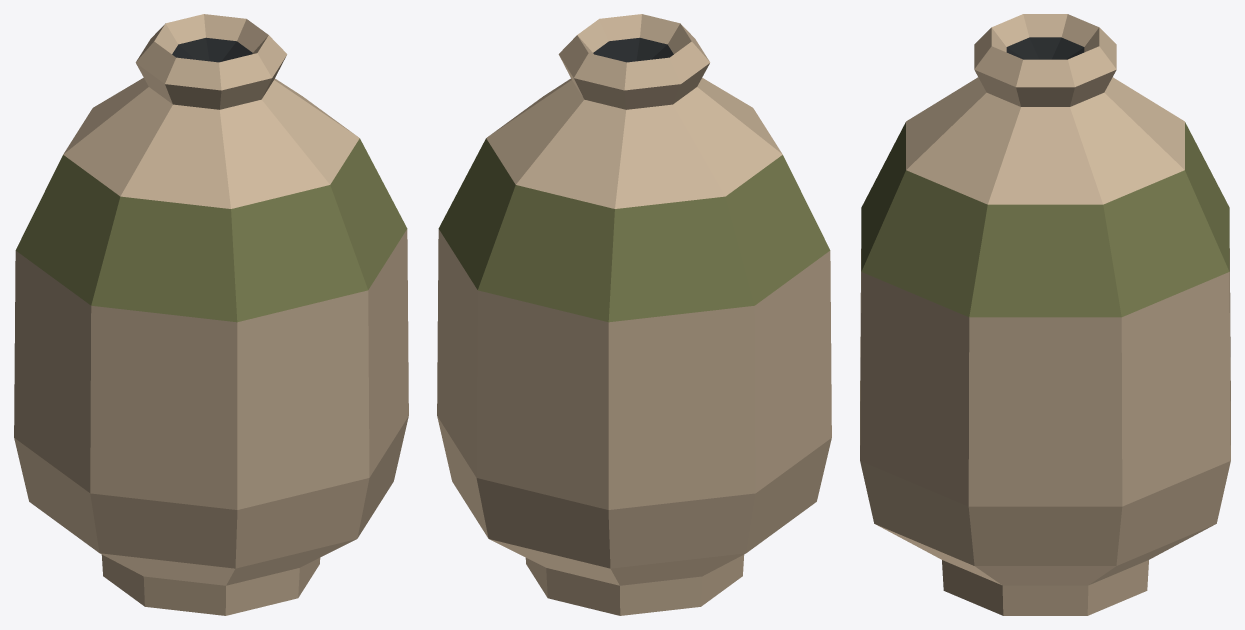
File: SM_Prop_Vase_03.glb
3 views of the same model, side by side, from view 1: azimuth 30°, elevation 25°; view 2: azimuth 150°, elevation 25°; view 3: azimuth 270°, elevation 25° (orthographic).
Visible parts, largest first — view 1: SM_Prop_Vase_03; view 2: SM_Prop_Vase_03; view 3: SM_Prop_Vase_03.
Part boxes in pixels (x1,y1,x2,y2): SM_Prop_Vase_03: (14, 14, 408, 615); SM_Prop_Vase_03: (437, 14, 831, 615); SM_Prop_Vase_03: (860, 14, 1230, 615).
Bounding box in the file's own units: 0.4221 × 0.6733 × 0.4221.
Materials: 1 (1 with a texture image).
